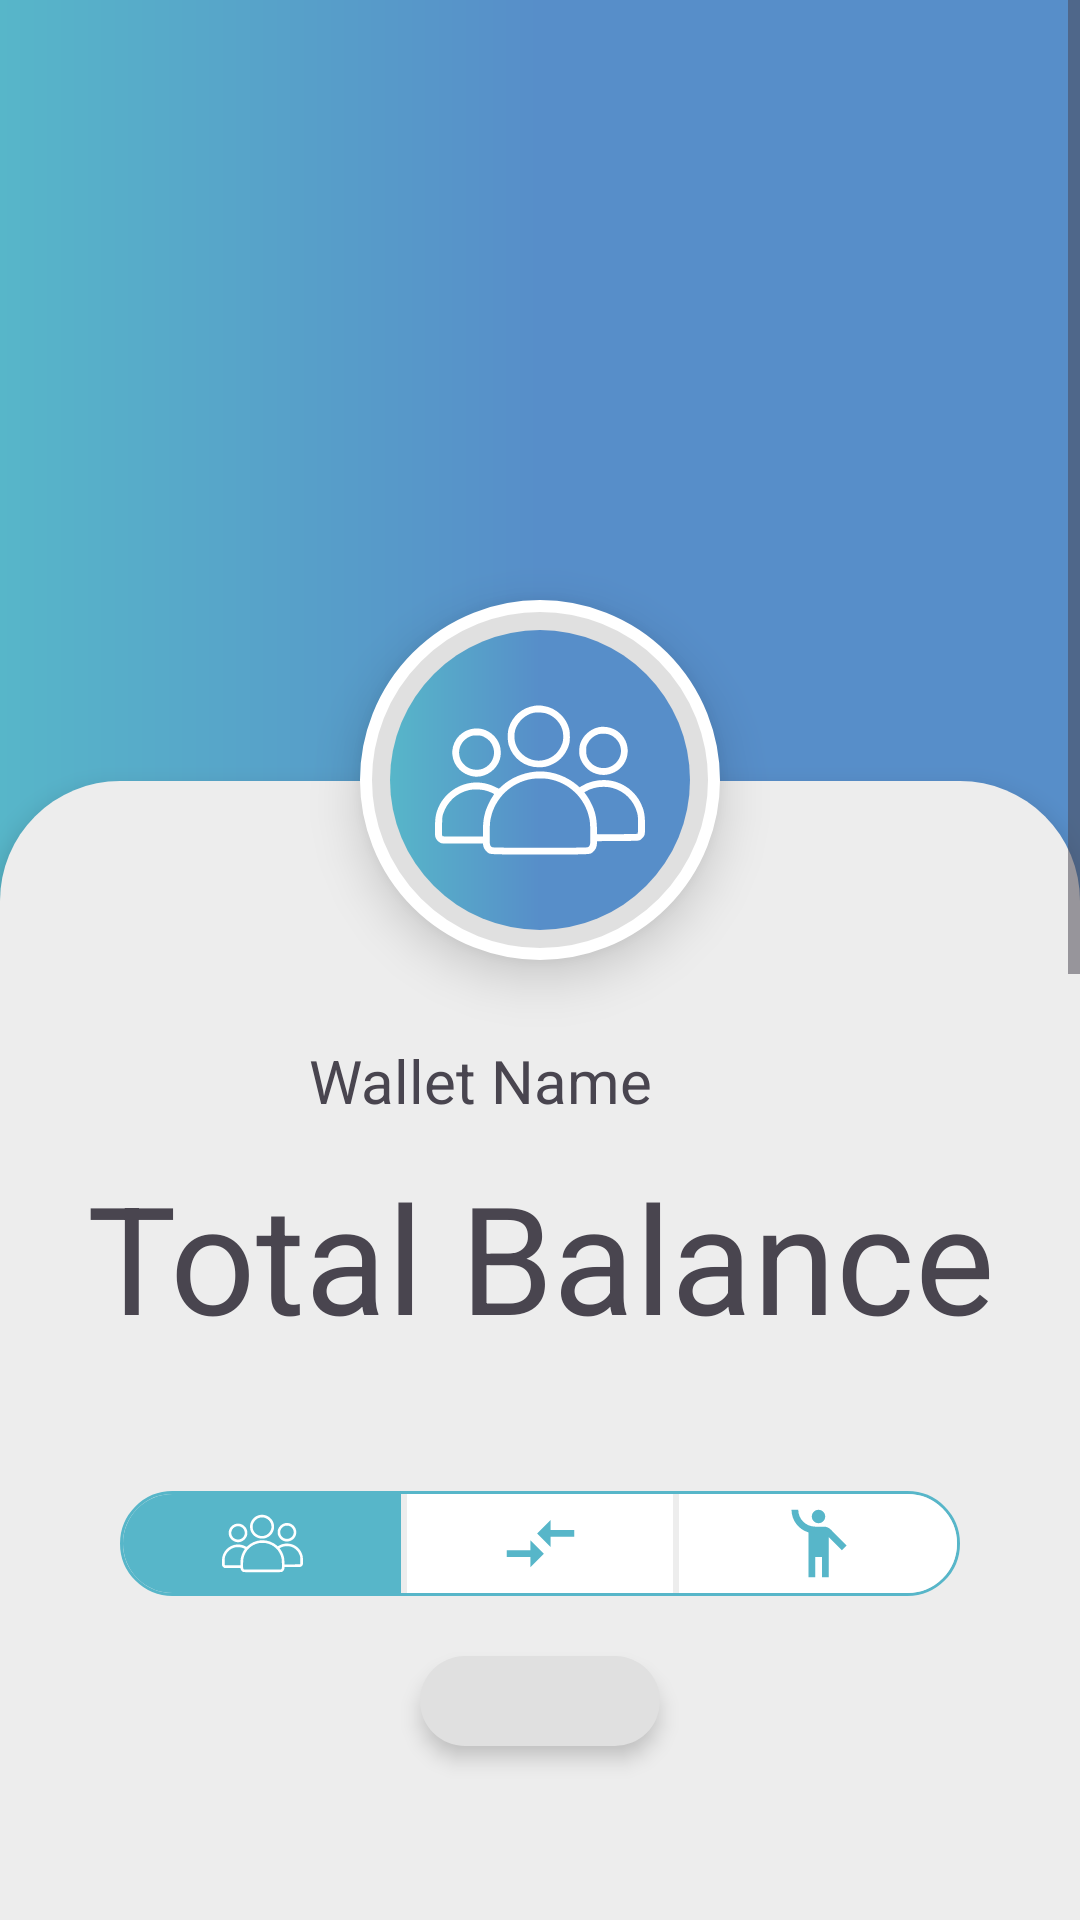

Where icons sit on this 1080×1920 app screen, as [x1=x1, y1=y1, x2=x2, y2=y2]:
transaction: [x1=407, y1=1494, x2=673, y2=1593]
